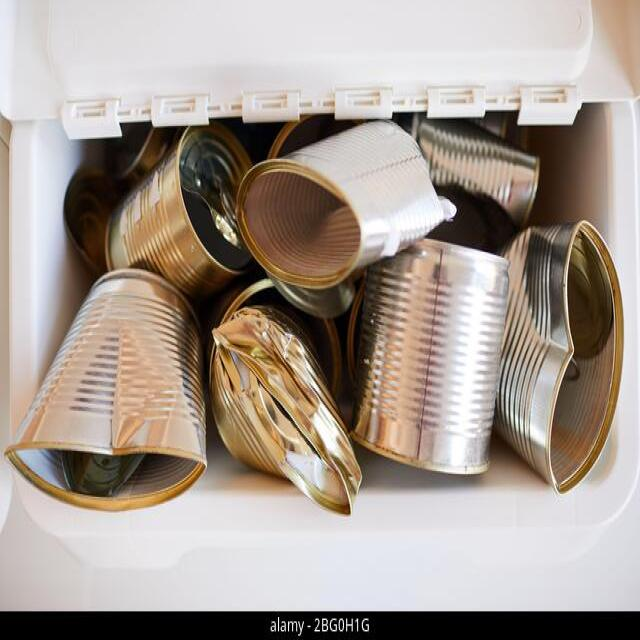cardboard: (1, 11, 589, 146)
metal: (34, 172, 590, 498)
